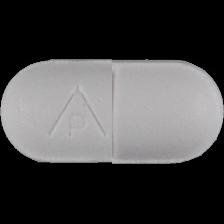63629-1789: (0, 0, 224, 224)
